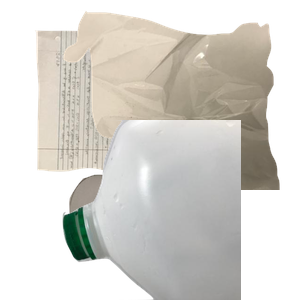glass: (67, 172, 229, 300)
paper: (32, 28, 249, 196)
plastic: (60, 120, 300, 300)
trash: (61, 10, 300, 190)
